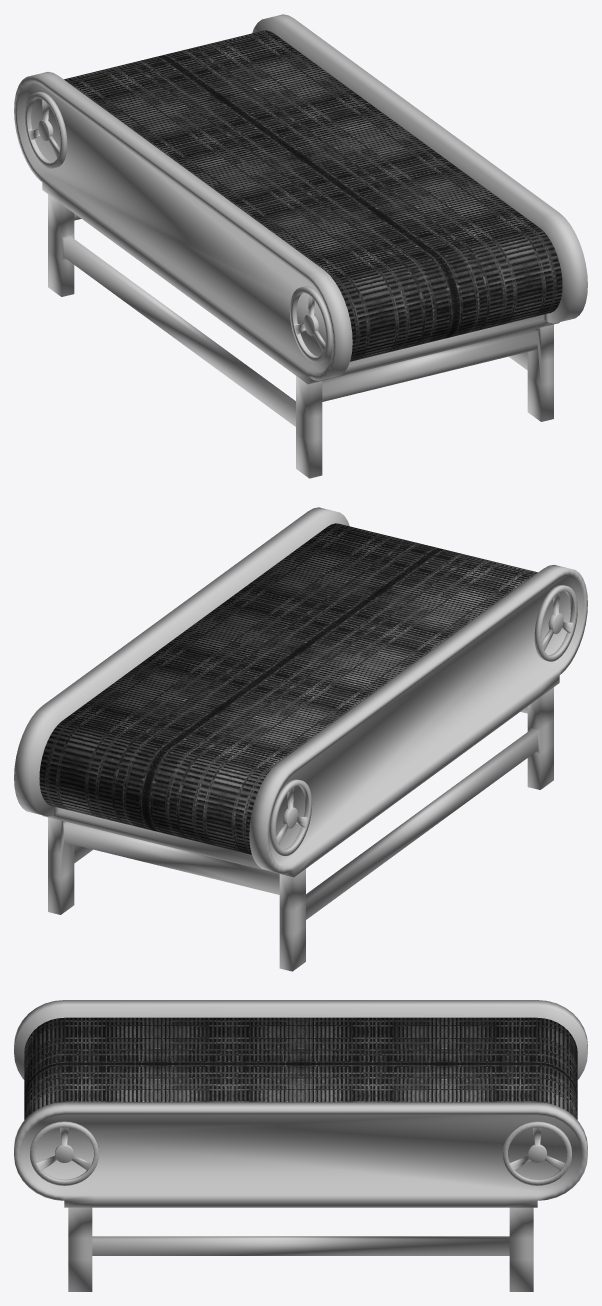
Rendered from conveyor_belt.fbx.
3 views of the same model, one above another, from view 1: azimuth 30°, elevation 25°; view 2: azimuth 150°, elevation 25°; view 3: azimuth 270°, elevation 25° (orthographic). The views are drawn at different scales.
Visible parts, largest first — view 1: conveyor_belt, conveyor_base, cog_R, cog_L; view 2: conveyor_belt, conveyor_base, cog_L, cog_R; view 3: conveyor_base, conveyor_belt, cog_L, cog_R.
Boxes of the visible parts, x1=… form: conveyor_belt: x1=64, y1=30, x2=562, y2=361; conveyor_base: x1=14, y1=14, x2=587, y2=478; cog_R: x1=24, y1=92, x2=67, y2=168; cog_L: x1=289, y1=286, x2=332, y2=362; conveyor_belt: x1=39, y1=523, x2=537, y2=854; conveyor_base: x1=14, y1=507, x2=587, y2=971; cog_L: x1=534, y1=585, x2=577, y2=661; cog_R: x1=269, y1=779, x2=312, y2=855; conveyor_base: x1=14, y1=1000, x2=587, y2=1291; conveyor_belt: x1=24, y1=1017, x2=577, y2=1119; cog_L: x1=30, y1=1121, x2=98, y2=1185; cog_R: x1=503, y1=1121, x2=571, y2=1185.
Size of the model in its own units: 109 by 243 by 85.92.
